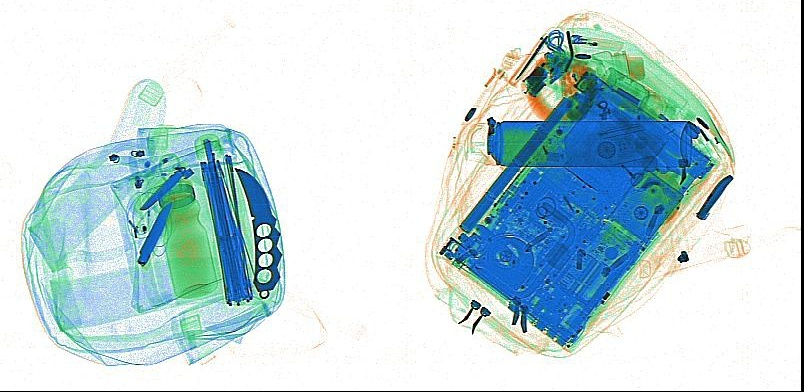knife: (232, 166, 282, 298), (137, 200, 175, 266), (138, 164, 189, 210), (507, 35, 551, 87), (695, 173, 734, 221)
lighter: (568, 33, 623, 53)
pressure: (462, 117, 692, 168)
